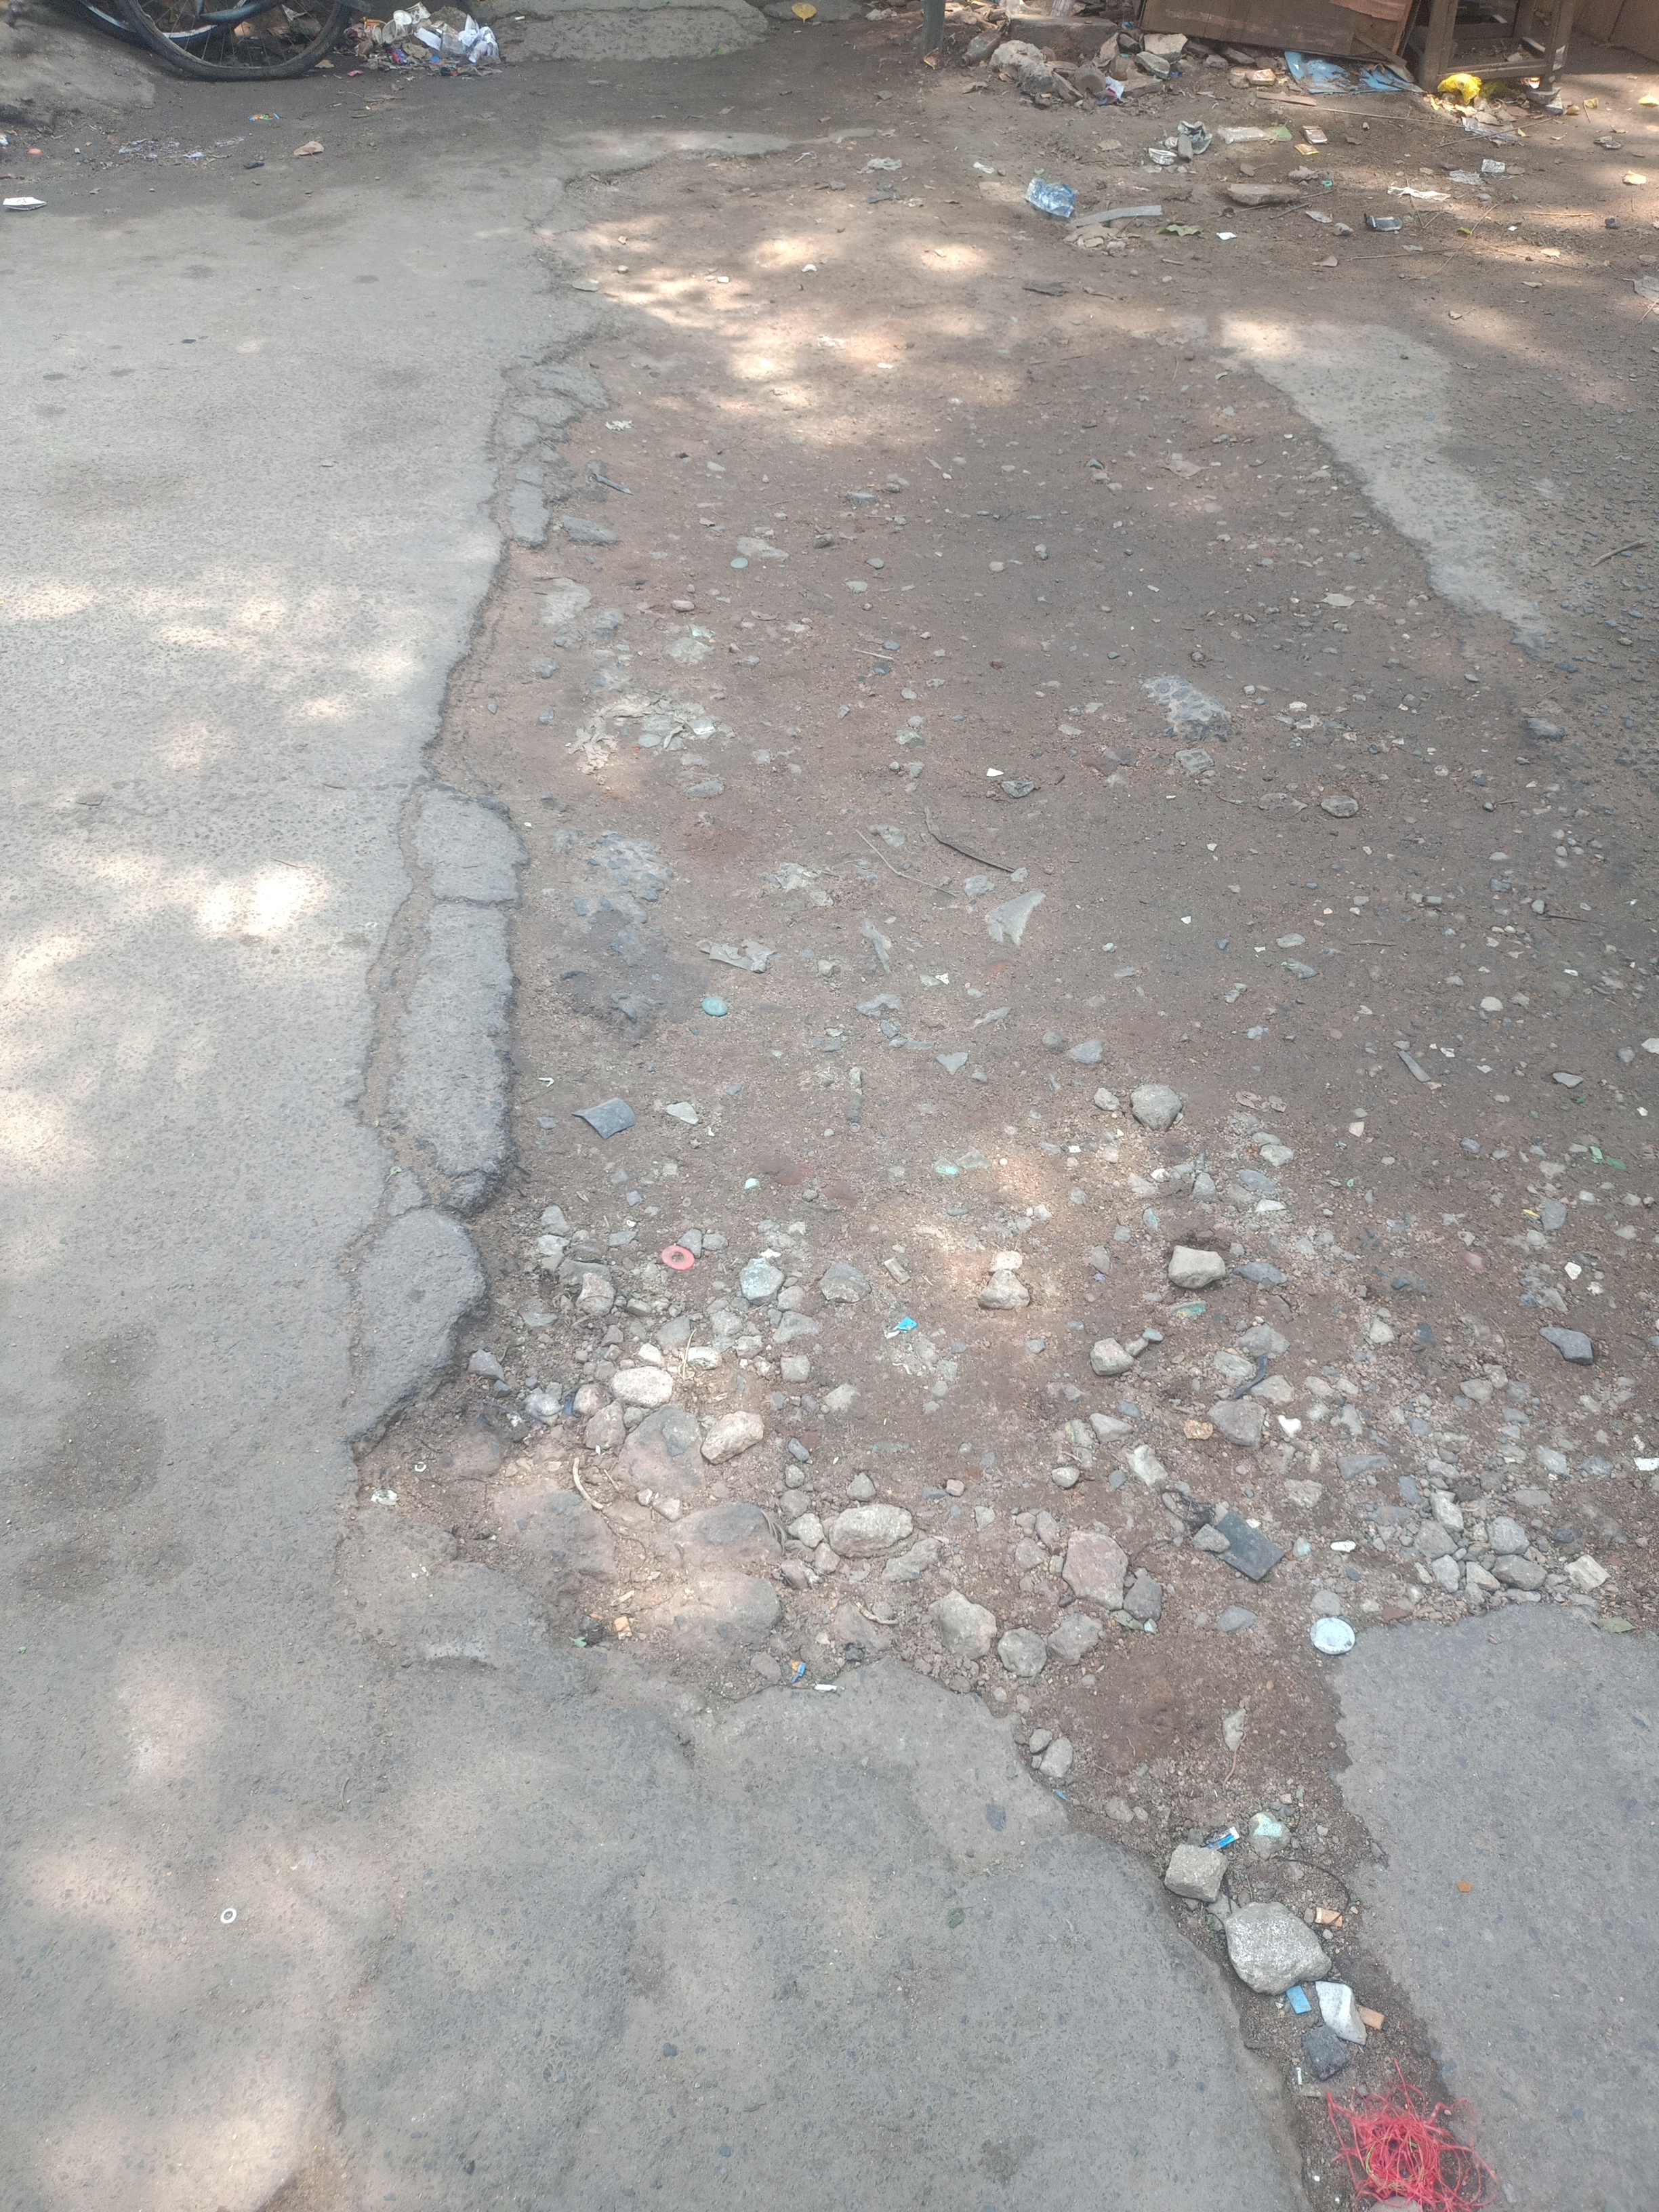potholes: (321, 111, 1659, 2212)
